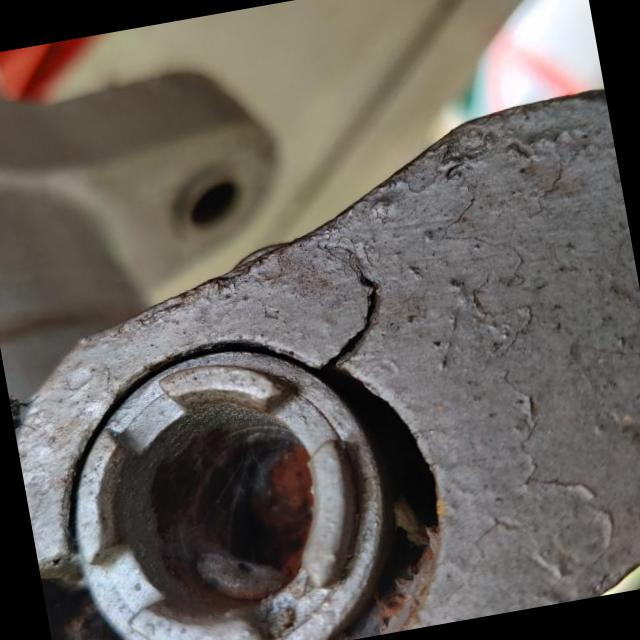Crack: (296, 240, 396, 375)
